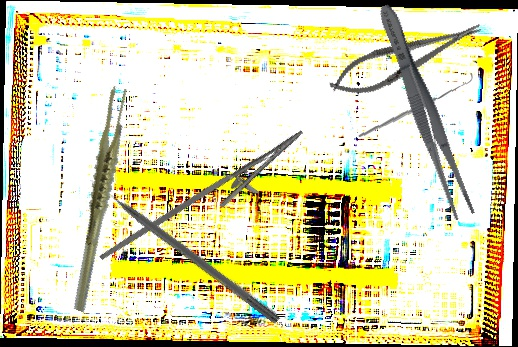Dressing Forceps: (370, 0, 480, 222)
Hook Surgical: (357, 65, 474, 146)
Needle Holder: (98, 106, 316, 298), (323, 10, 489, 107)
Pusher: (87, 173, 283, 326)
Tissue Forceps: (32, 83, 166, 314)
